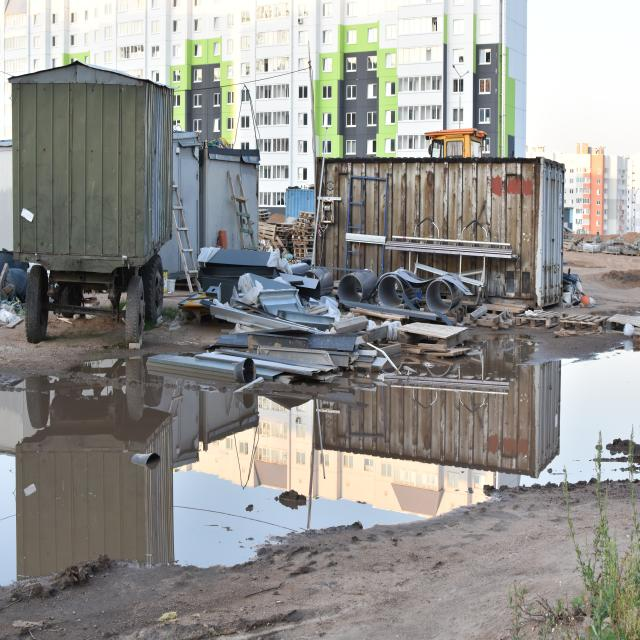entulho: (382, 227, 514, 292), (341, 263, 467, 324), (199, 242, 284, 293), (216, 299, 330, 335), (212, 350, 332, 380), (171, 177, 200, 296), (147, 346, 224, 386), (396, 316, 473, 356), (228, 171, 253, 251), (288, 260, 335, 302), (348, 304, 428, 326), (233, 272, 292, 300), (477, 298, 525, 332), (289, 205, 318, 261), (563, 308, 607, 335), (258, 218, 290, 250), (521, 306, 561, 331), (605, 313, 640, 332), (582, 236, 604, 254), (608, 238, 624, 254)
